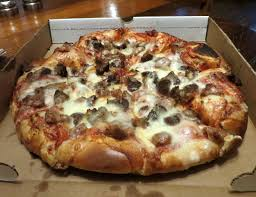pizza: (19, 27, 244, 169)
